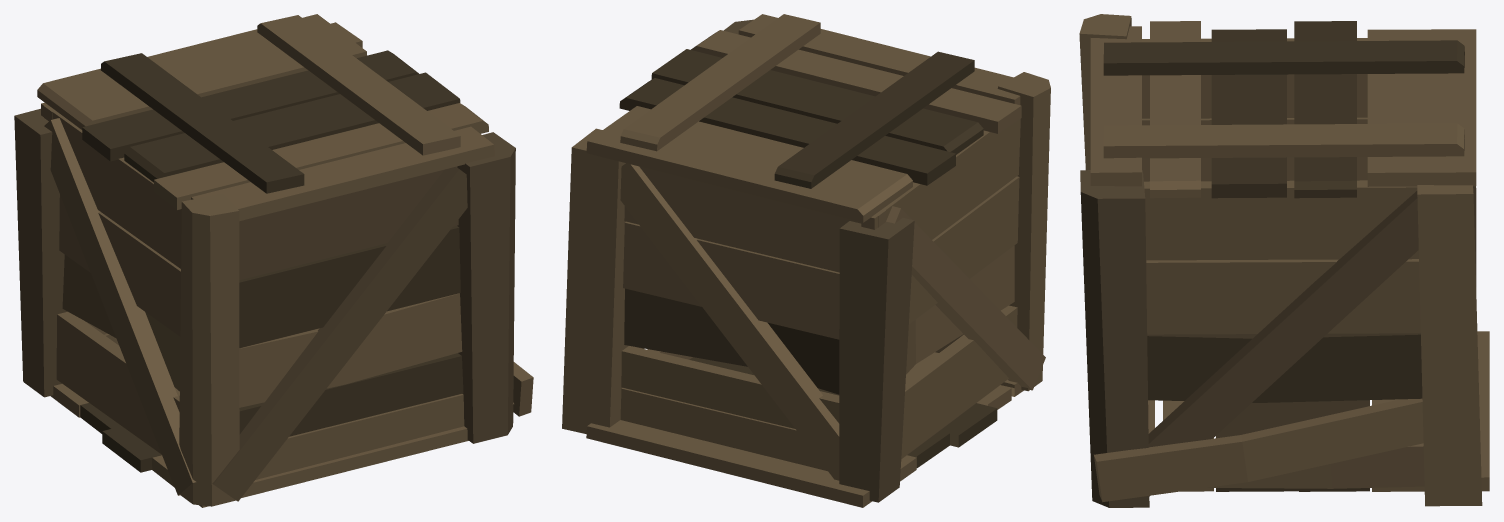
Rendered from EA03_Prop_Container_Crate_03a.glb.
The picture shows the model from 3 angles, left to right: view 1: azimuth 30°, elevation 25°; view 2: azimuth 150°, elevation 25°; view 3: azimuth 270°, elevation 25°; orthographic projection. The views are drawn at different scales.
Visible parts, largest first — view 1: EA03_Prop_Container_Crate_03a; view 2: EA03_Prop_Container_Crate_03a; view 3: EA03_Prop_Container_Crate_03a.
Part boxes in pixels (x1=…): EA03_Prop_Container_Crate_03a: x1=14, y1=14, x2=533, y2=507; EA03_Prop_Container_Crate_03a: x1=562, y1=14, x2=1050, y2=507; EA03_Prop_Container_Crate_03a: x1=1079, y1=14, x2=1489, y2=507.
Size of the model in its own units: 0.868 by 0.7466 by 0.818.
1 material, 1 textured.
